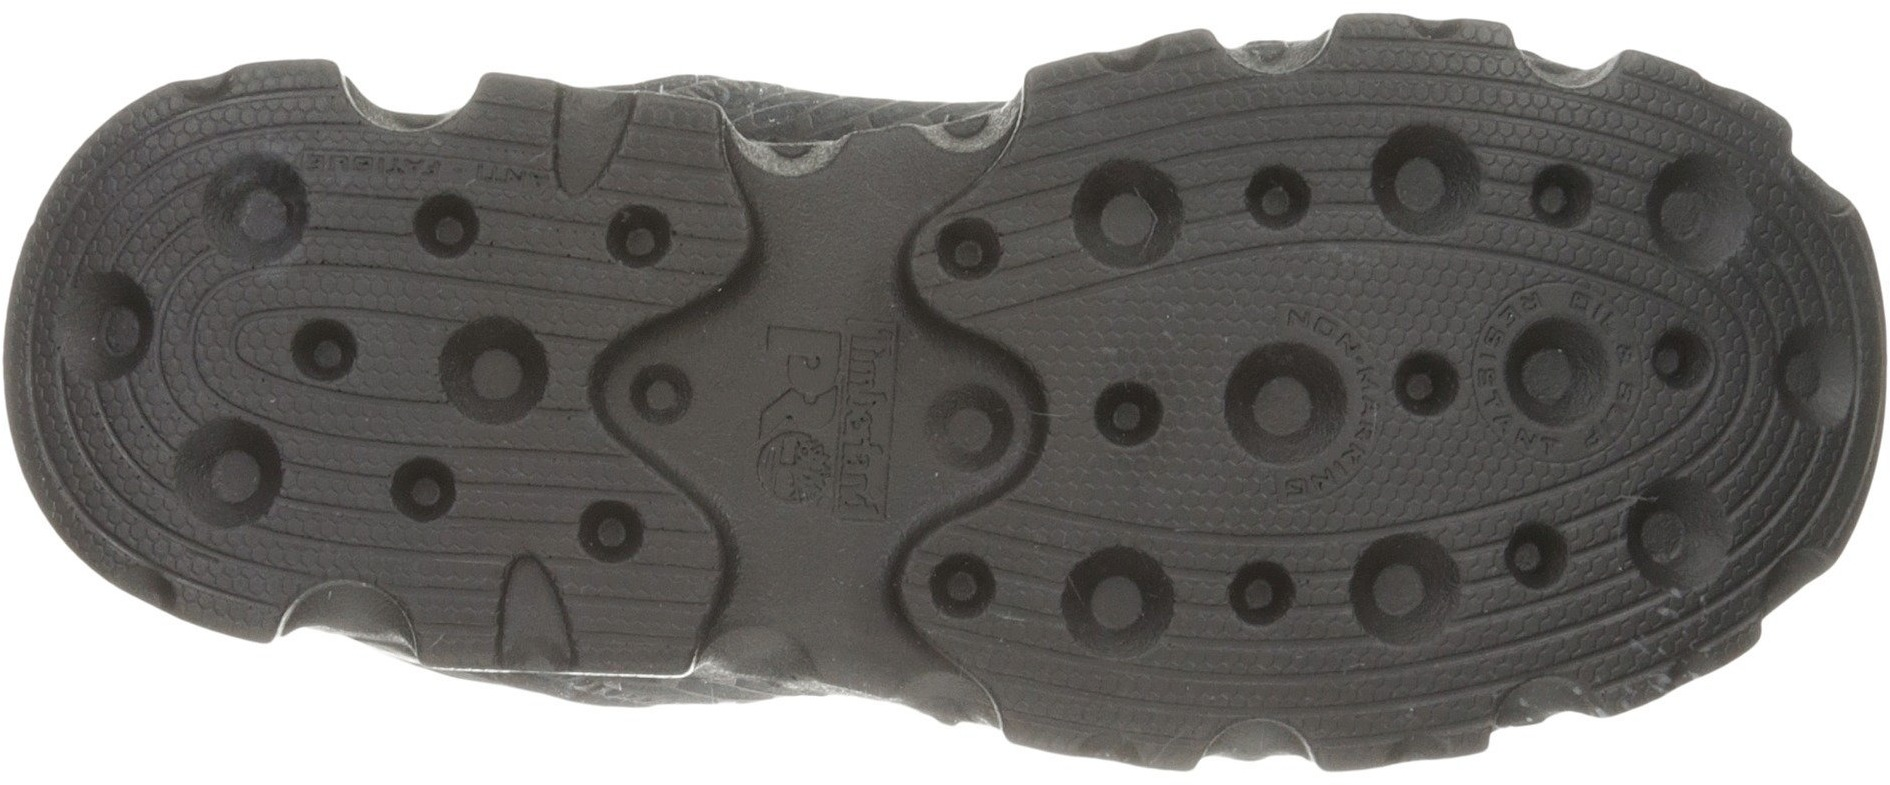circle: (1207, 113, 1769, 651), (135, 136, 579, 578), (1047, 143, 1207, 289), (23, 253, 178, 399), (1045, 531, 1196, 675), (1755, 305, 1880, 445), (1069, 361, 1187, 467)
exclude: (340, 634, 1006, 783), (582, 0, 1031, 178), (1193, 716, 1319, 771)
